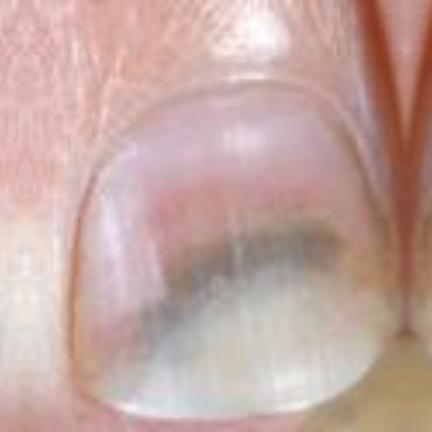Nail: (66, 87, 398, 421), (412, 204, 432, 364)
